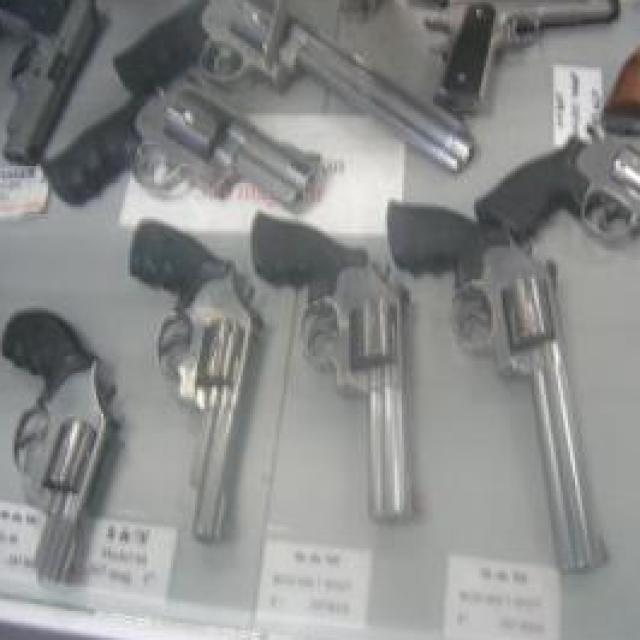pistol: (385, 200, 621, 584), (115, 0, 479, 166), (248, 207, 412, 528), (132, 219, 266, 553), (43, 82, 325, 210), (0, 307, 120, 582), (428, 0, 626, 111), (474, 130, 640, 241), (0, 0, 99, 171)
